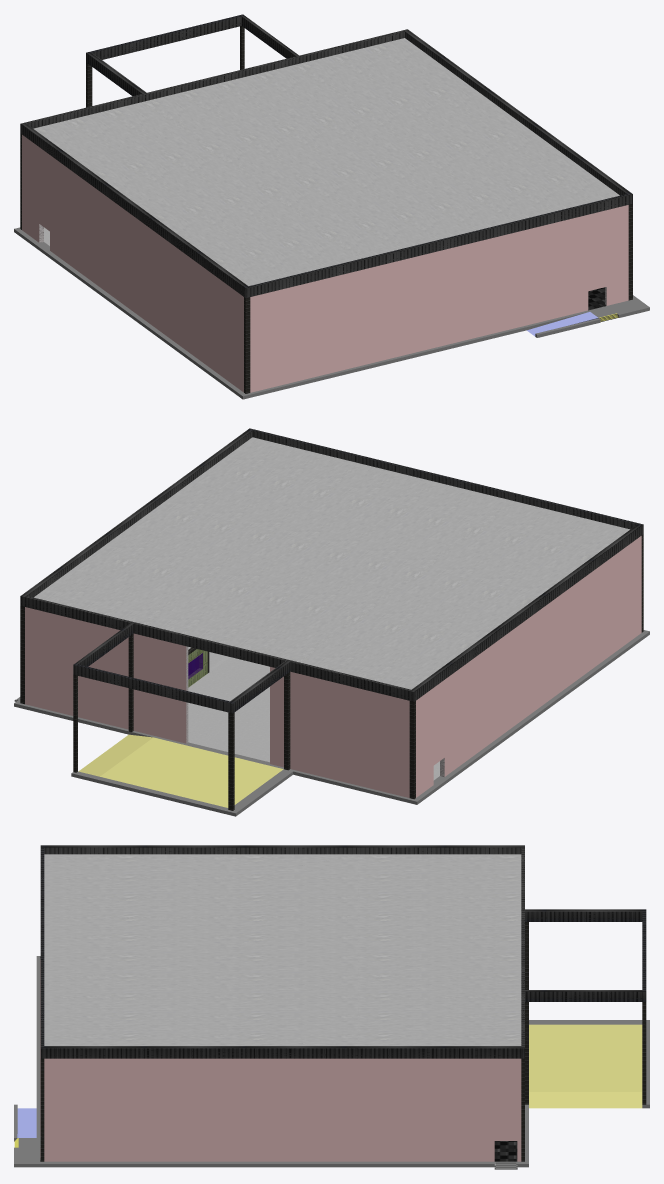
File: DaMap.fbx
3 views of the same model, one above another, from view 1: azimuth 30°, elevation 25°; view 2: azimuth 150°, elevation 25°; view 3: azimuth 270°, elevation 25° (orthographic). The views are drawn at different scales.
Visible parts, largest first — view 1: WarehouseTest; view 2: WarehouseTest; view 3: WarehouseTest.
Boxes of the visible parts, left/top/right/bottom form: WarehouseTest: left=14, top=14, right=649, bottom=399; WarehouseTest: left=14, top=428, right=649, bottom=816; WarehouseTest: left=14, top=845, right=649, bottom=1169.
Bounding box in the file's own units: 13150 × 3400 × 16800.
